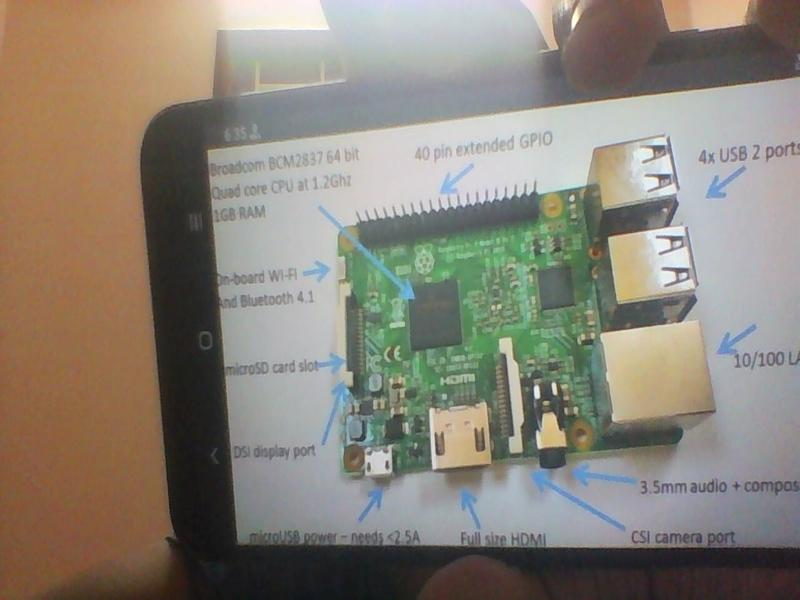aud: (530, 377, 570, 471)
eth: (596, 326, 717, 420)
usb: (585, 131, 688, 217), (598, 233, 704, 307)
